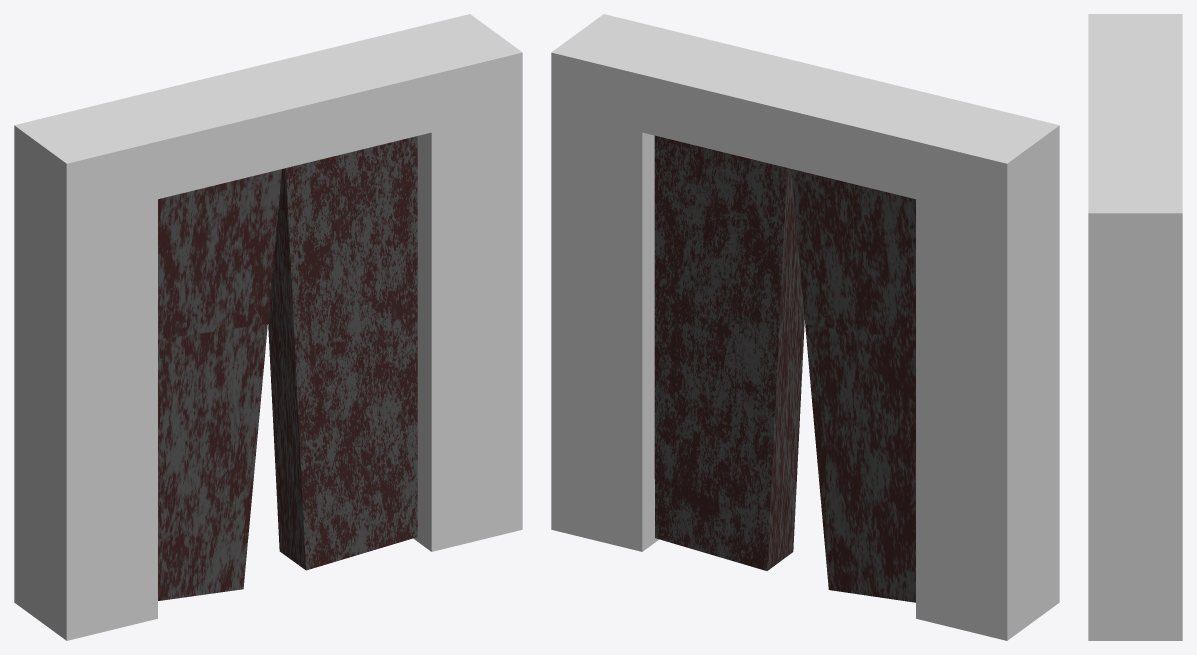
Rendered from elevator.glb.
The picture shows the model from 3 angles, left to right: view 1: azimuth 30°, elevation 25°; view 2: azimuth 150°, elevation 25°; view 3: azimuth 270°, elevation 25°; orthographic projection. The views are drawn at different scales.
Visible parts, largest first — view 1: Frame, DoorRight, DoorLeft; view 2: Frame, DoorRight, DoorLeft; view 3: Frame.
Boxes of the visible parts, bbox=[...] form: Frame: bbox=[14, 14, 522, 640]; DoorRight: bbox=[268, 136, 417, 570]; DoorLeft: bbox=[158, 169, 281, 600]; Frame: bbox=[551, 14, 1059, 640]; DoorRight: bbox=[654, 135, 804, 570]; DoorLeft: bbox=[791, 169, 915, 602]; Frame: bbox=[1088, 14, 1182, 640].
Size of what is drawn, in the model's own units: 5 by 5.05 by 1.
Materials: 2 (1 with a texture image).
